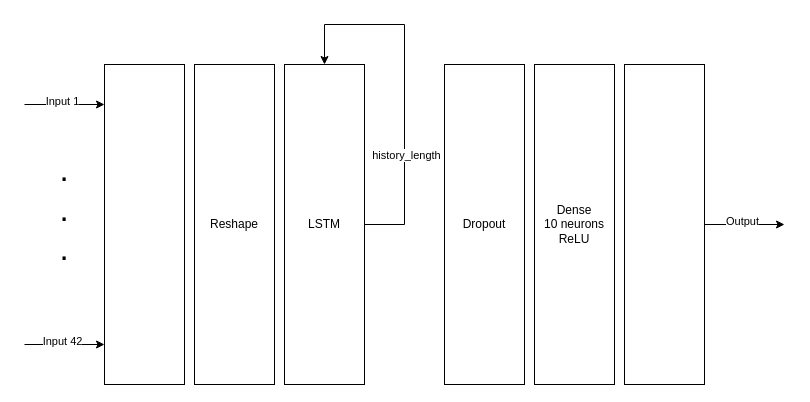
Some shapes in this 810 by 402 pixel diagram are drawn without their labels. Each missing label, with the centre of its shape:
"Input layer" belongs at point (144, 224).
"Output Softmax" belongs at point (664, 224).
